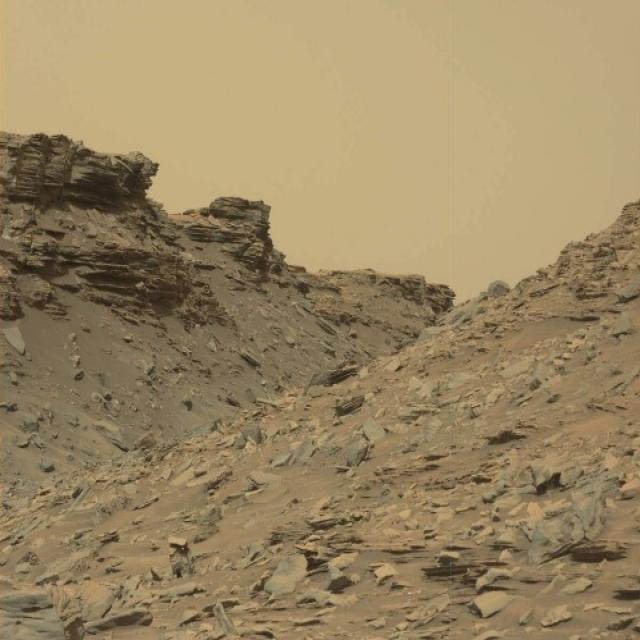rock: (0, 122, 159, 202), (172, 193, 298, 275)
